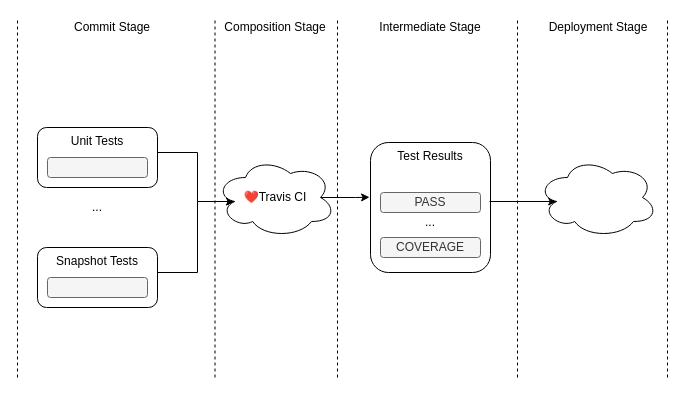
The diagram is 686 pixels wide and 396 high, and some of its shapes have lost their labels. Each missing label, with the centre of its shape:
app.test.js: the point at 97,167
app.test.js.snap: the point at 97,287
Tag Release (New Version): the point at 597,197
